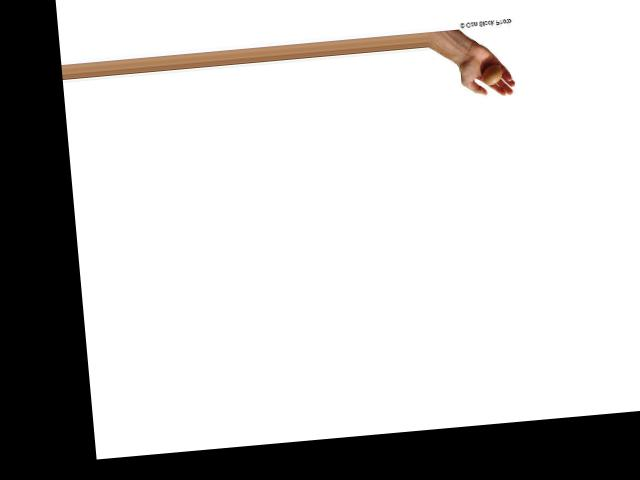egg: (483, 64, 504, 84)
